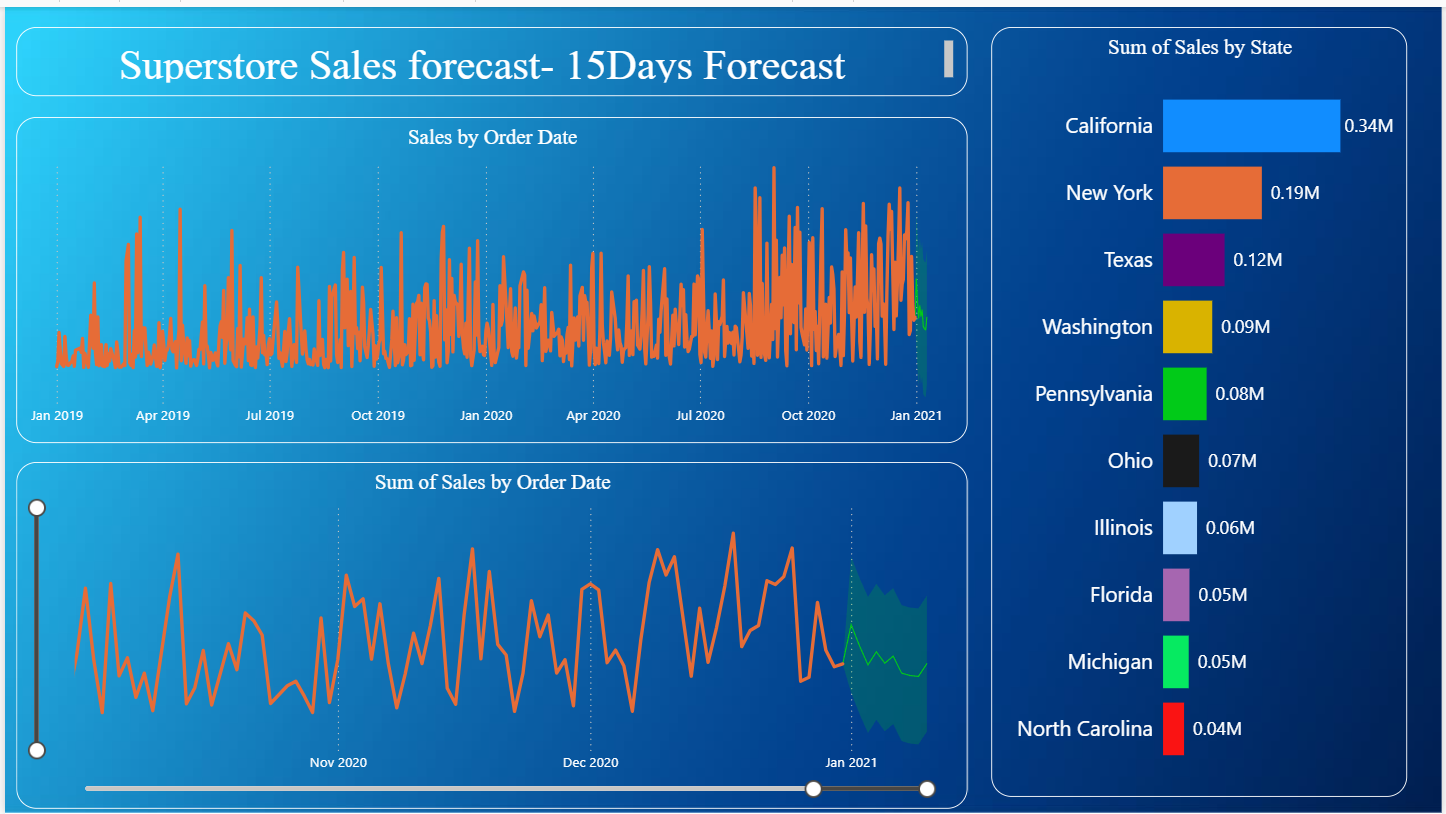

This screenshot's page, from the dashboard's own definition file:
{"tool":"powerbi","page":{"name":"Page 2","canvas":[1280,720],"ordinal":1},"visuals":[{"type":"lineChart","title":"Sales by Order Date","fields":{"Category":["Sheet1.Order Date"],"Y":["Sum(Sheet1.Sales)"]},"box":[9.7,97.7,846.9,290.8],"z":0},{"type":"lineChart","fields":{"Category":["Sheet1.Order Date"],"Y":["Sum(Sheet1.Sales)"]},"box":[9.7,405.4,846.9,308.8],"z":1000},{"type":"textbox","box":[9.7,18.1,846.9,61.5],"z":2000},{"type":"clusteredBarChart","fields":{"Y":["Sum(Sheet1.Sales)"],"Category":["Sheet1.State"]},"box":[878.3,18.1,370.4,685.3],"z":3000}]}

Visuals, with their boxes in screenshot pixels (x1, y1, x2, y2), scaled from the page's 1280x720 canvas onto the 1446x814 screenshot:
"Sales by Order Date" lineChart: [x1=11, y1=110, x2=968, y2=439]
lineChart - Sheet1.Order Date x Sum(Sheet1.Sales): [x1=11, y1=458, x2=968, y2=807]
textbox: [x1=11, y1=20, x2=968, y2=90]
clusteredBarChart - Sum(Sheet1.Sales) x Sheet1.State: [x1=992, y1=20, x2=1411, y2=795]
